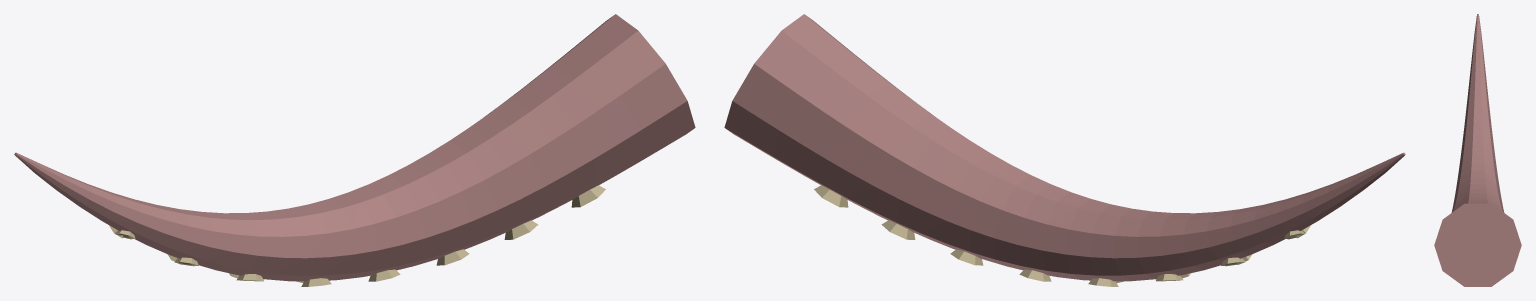
File: kraken_arm_6_01.glb
3 views of the same model, side by side, from view 1: azimuth 30°, elevation 25°; view 2: azimuth 150°, elevation 25°; view 3: azimuth 270°, elevation 25° (orthographic). The views are drawn at different scales.
Visible parts, largest first — view 1: Arm6; view 2: Arm6; view 3: Arm6.
Part boxes in pixels (x1,y1,x2,y2): Arm6: (14,14,695,281); Arm6: (724,14,1405,281); Arm6: (1434,14,1521,286).
Size of the model in its own units: 1.2 by 0.3661 by 0.229.
